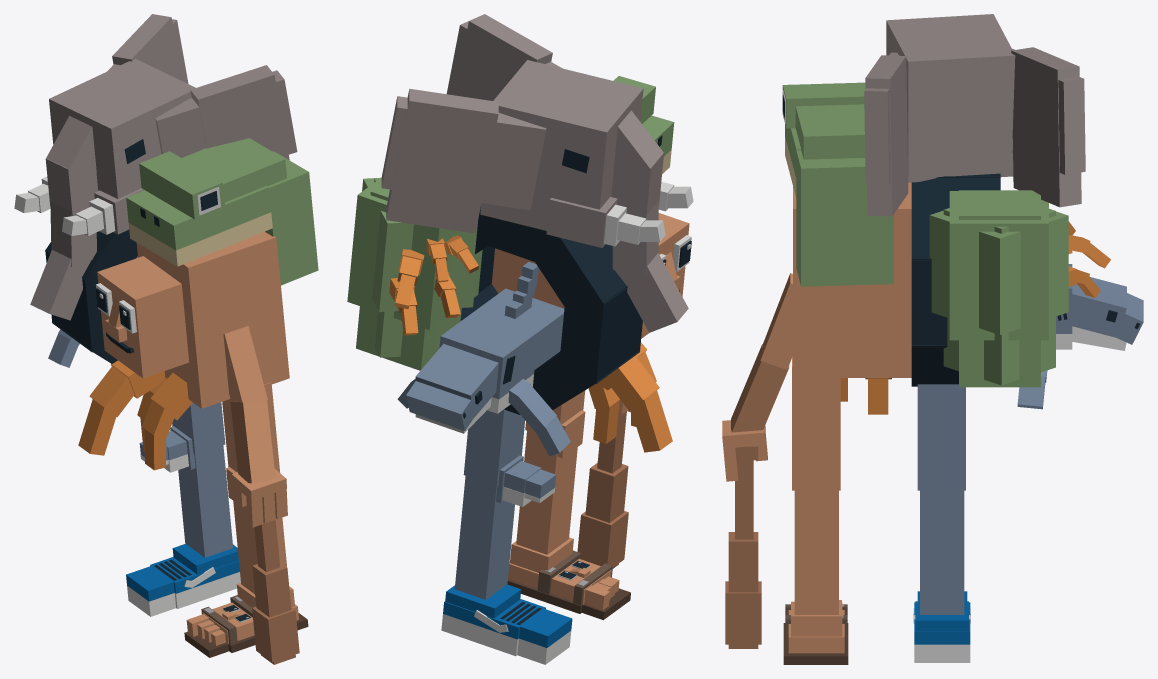
The model's file is La_Grande_Combinatione_Brainrot_Preferiti.fbx.
3 views of the same model, side by side, from view 1: azimuth 30°, elevation 25°; view 2: azimuth 150°, elevation 25°; view 3: azimuth 270°, elevation 25° (orthographic). The views are drawn at different scales.
Parts seen in each view (by area): view 1: La_Grande_Combinatione_Brainrot_Preferiti; view 2: La_Grande_Combinatione_Brainrot_Preferiti; view 3: La_Grande_Combinatione_Brainrot_Preferiti.
Part boxes in pixels (<box>): La_Grande_Combinatione_Brainrot_Preferiti: <box>14,14,318,664</box>; La_Grande_Combinatione_Brainrot_Preferiti: <box>347,14,693,664</box>; La_Grande_Combinatione_Brainrot_Preferiti: <box>722,14,1143,664</box>.
Size of the model in its own units: 929 by 1773 by 1129.
